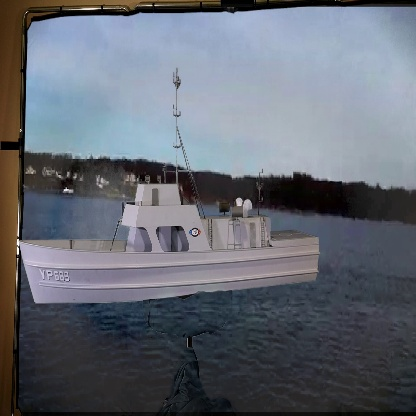YP689: (19, 66, 320, 306)
